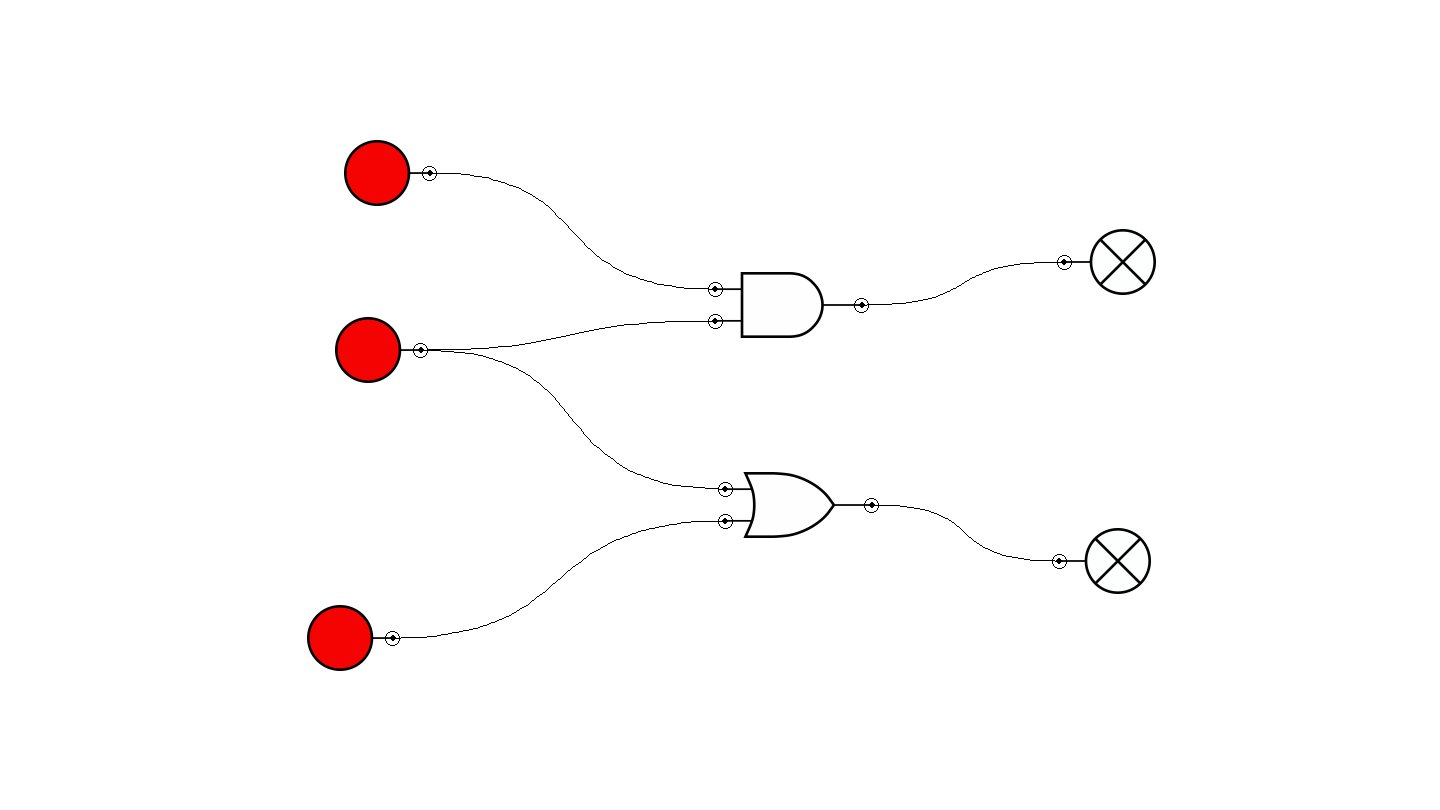and: (708, 272, 869, 338)
bulb: (1057, 229, 1156, 295), (1052, 528, 1151, 594)
or: (718, 472, 879, 538)
switch_False: (335, 317, 428, 383), (307, 605, 400, 671), (344, 140, 437, 206)
